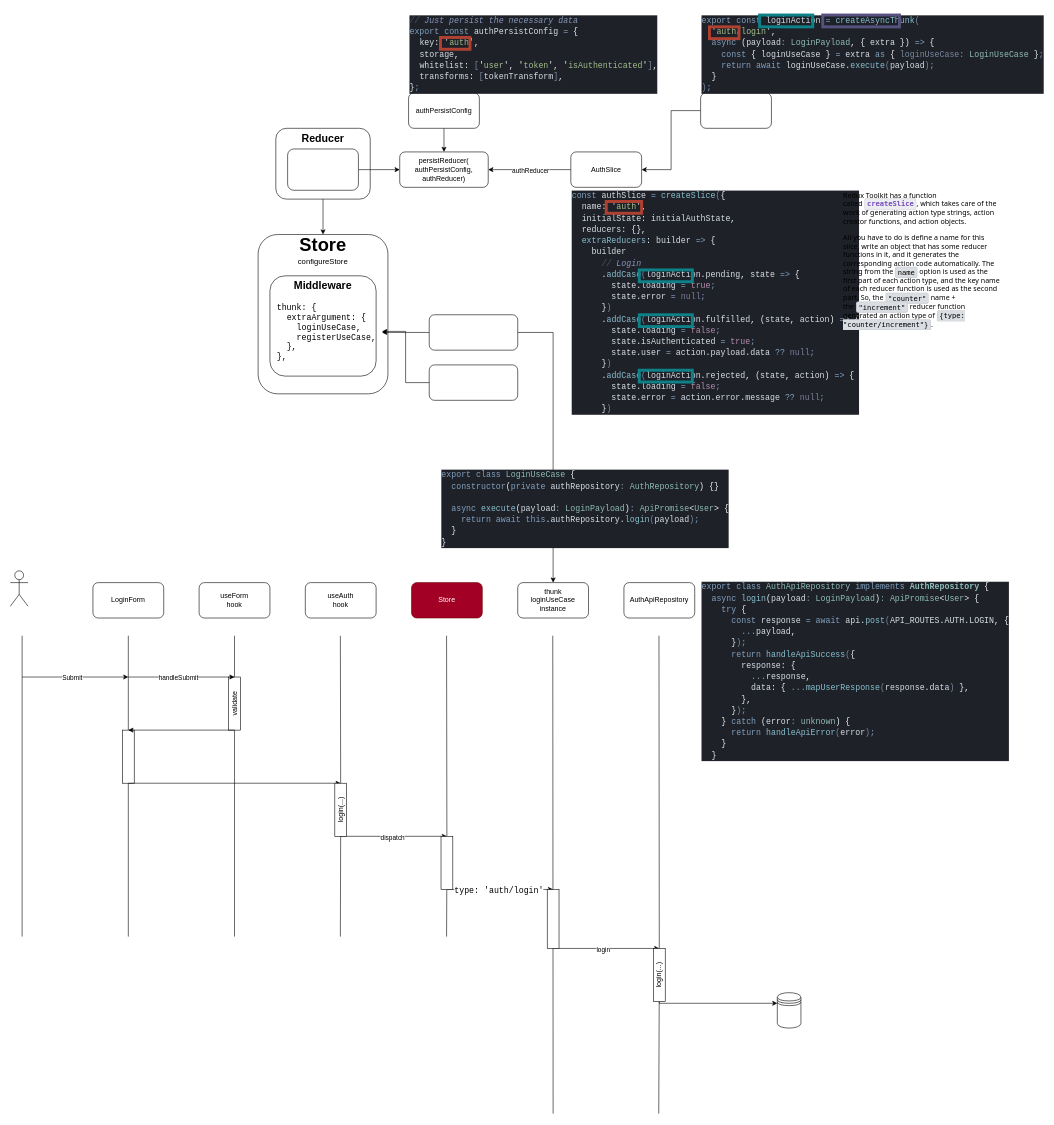
The diagram is 1054 pixels wide and 1125 high, and some of its shapes have lost their labels. Here are the shapes that lost their labels. From the top down, the centre of each, then its label:
the point at 735,110: authActions
the point at 322,169: auth
the point at 473,332: new LoginUseCase( AuthApiRepository)
the point at 473,382: new RegisterUseCase( AuthApiRepository)
the point at 19,588: Actor
the point at 128,756: onSubmit
the point at 446,862: dispatch(...)
the point at 553,918: execute(...)
